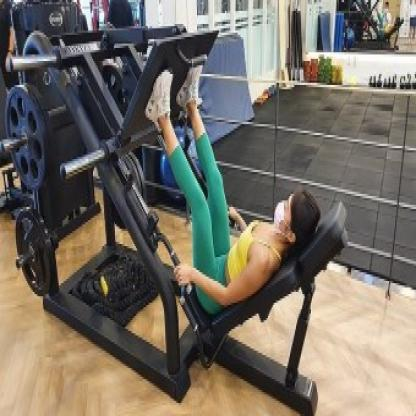leg press: (5, 0, 355, 416)
